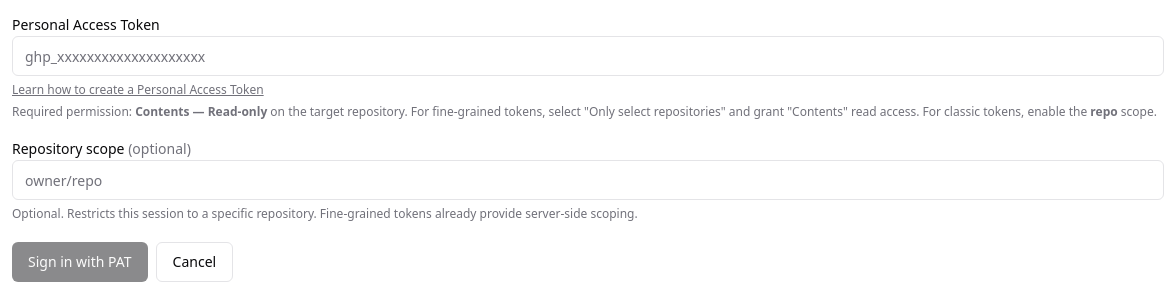
Test: PatLoginForm › disables submit button when scope format is invalid
The image size is (1176, 299).
Type "ghp_validtoken123" into the password field labelled "Personal Access Token". click: (588, 56)
box: [12,36,1164,76]
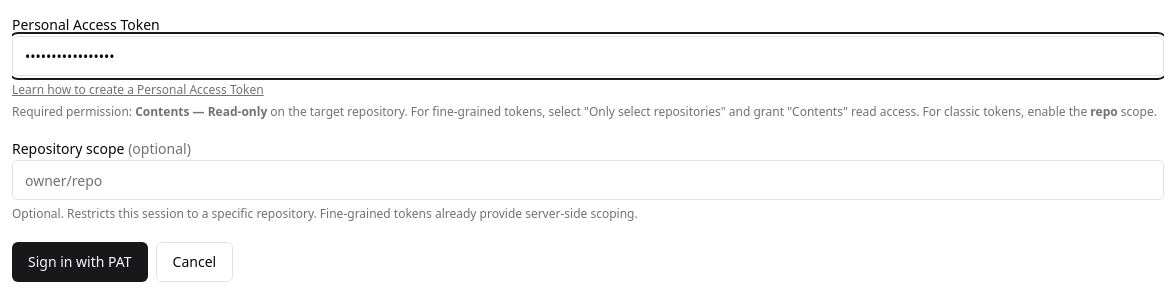
Type "invalid-format" into the field labelled "Repository scope". click: (588, 180)
box: [12,160,1164,200]
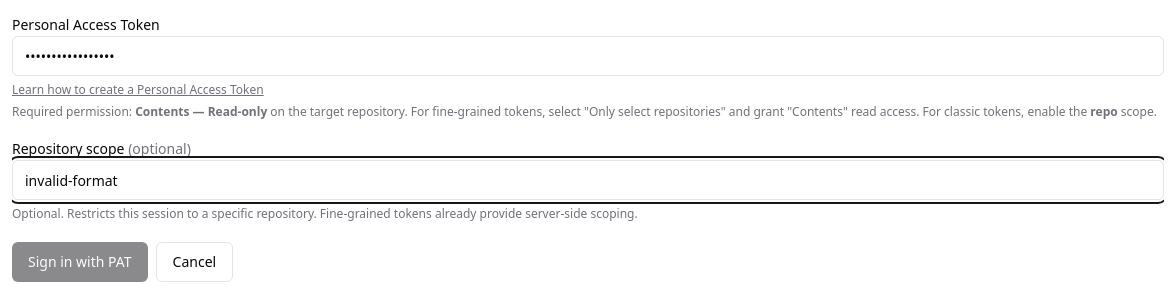
Now the button "Sign in with PAT" is disabled, box [12,242,148,282]
